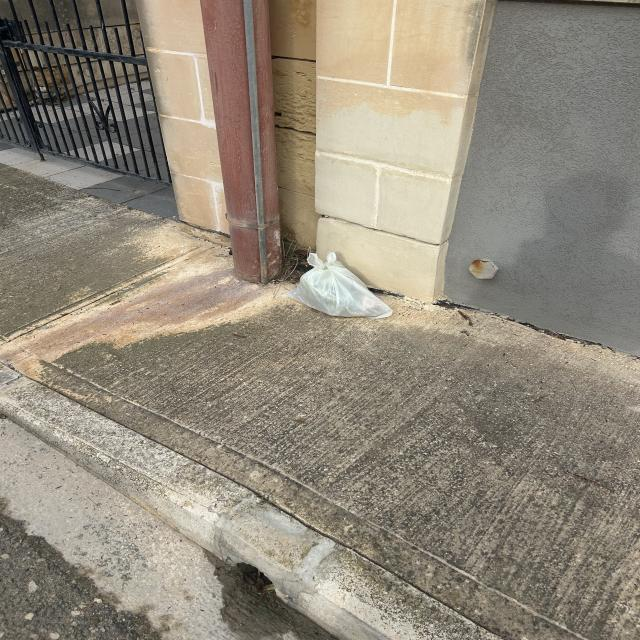white_bag: (280, 237, 399, 329)
